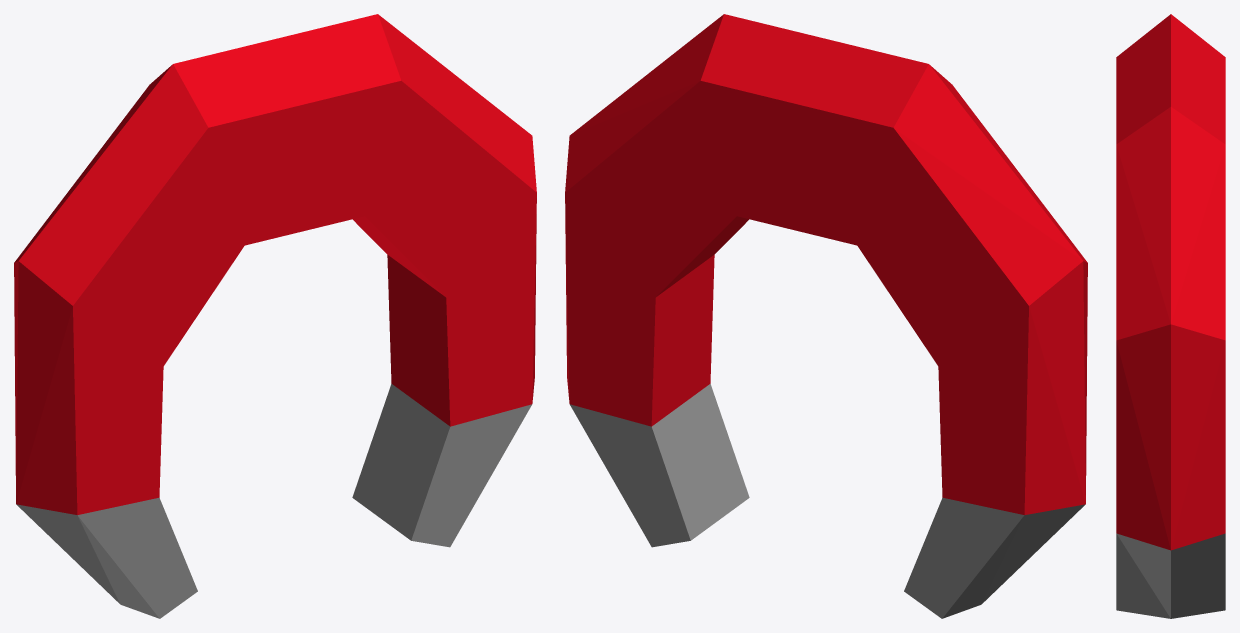
File: MagnetModel.dae
3 renders of one model, left to right at view 1: azimuth 30°, elevation 25°; view 2: azimuth 150°, elevation 25°; view 3: azimuth 270°, elevation 25°, orthographic. The views are drawn at different scales.
Parts seen in each view (by area): view 1: magnet; view 2: magnet; view 3: magnet.
Part boxes in pixels (x1,y1,x2,y2): magnet: [14, 14, 536, 618]; magnet: [565, 14, 1087, 618]; magnet: [1116, 14, 1225, 618].
Bounding box in the file's own units: 1.36 × 0.2669 × 1.32.
